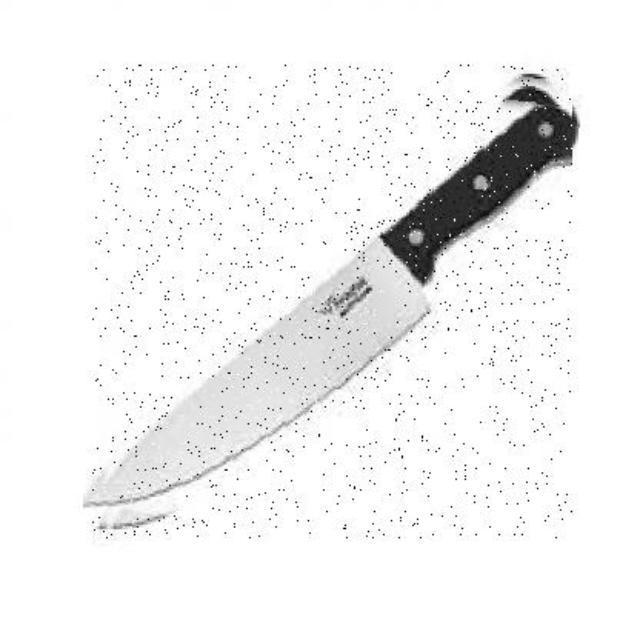Knife: (92, 66, 572, 538)
